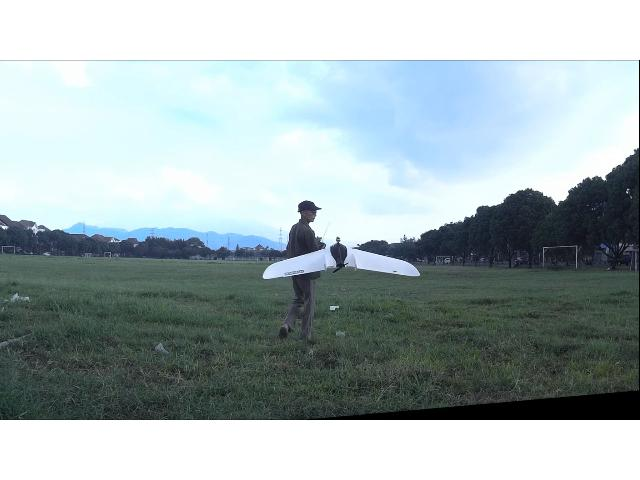Anti-Drone: (254, 227, 422, 293)
